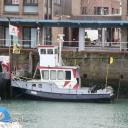tugboat: (4, 45, 117, 105)
